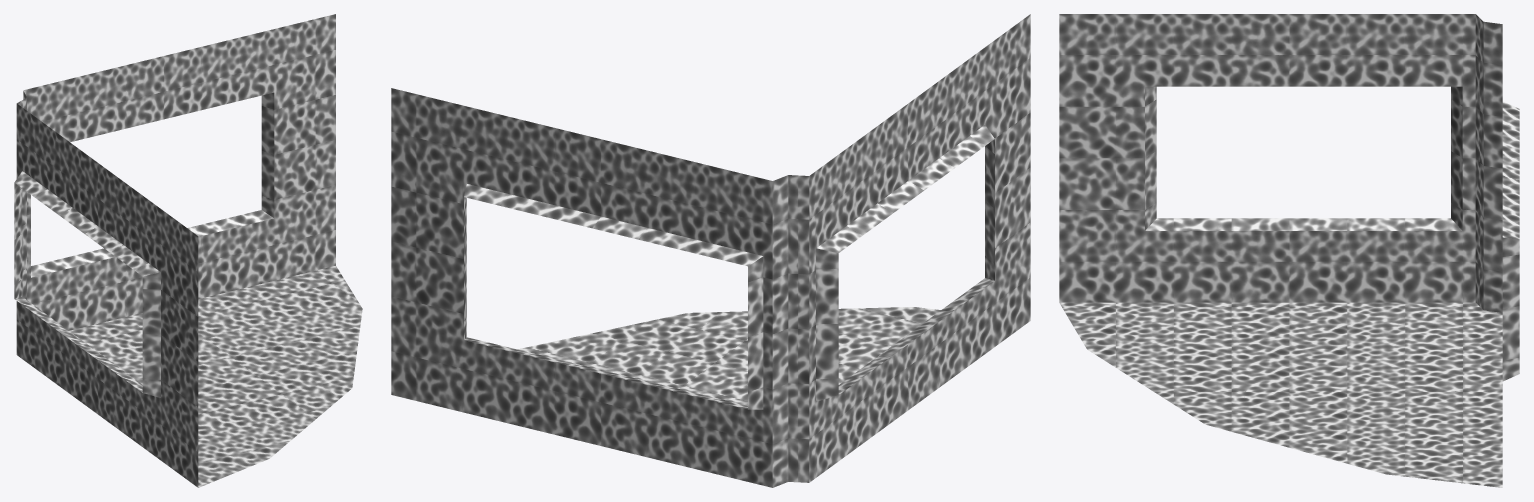
The model's file is mprw_caustic_win_corner.FBX.
3 renders of one model, left to right at view 1: azimuth 30°, elevation 25°; view 2: azimuth 150°, elevation 25°; view 3: azimuth 270°, elevation 25°, orthographic. The views are drawn at different scales.
Parts seen in each view (by area): view 1: mprw_caustic_win_corner; view 2: mprw_caustic_win_corner; view 3: mprw_caustic_win_corner.
Part boxes in pixels (bbox=[...]): mprw_caustic_win_corner: bbox=[14, 14, 362, 487]; mprw_caustic_win_corner: bbox=[391, 14, 1030, 487]; mprw_caustic_win_corner: bbox=[1059, 14, 1519, 487].
Size of the model in its own units: 718 by 502 by 725.
1 material, 1 textured.
